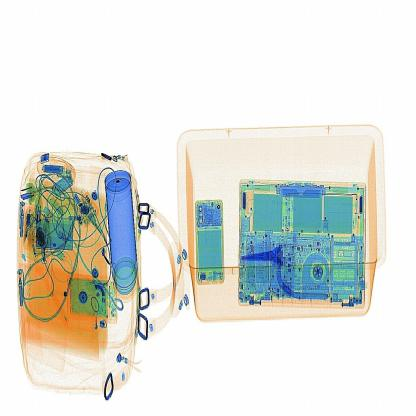gun: (240, 222, 309, 292)
